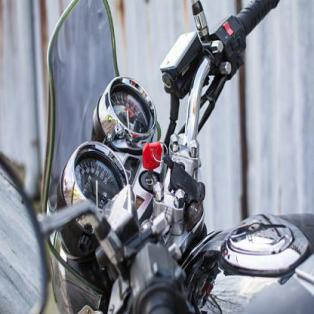Motocicleta: (0, 1, 313, 314)
